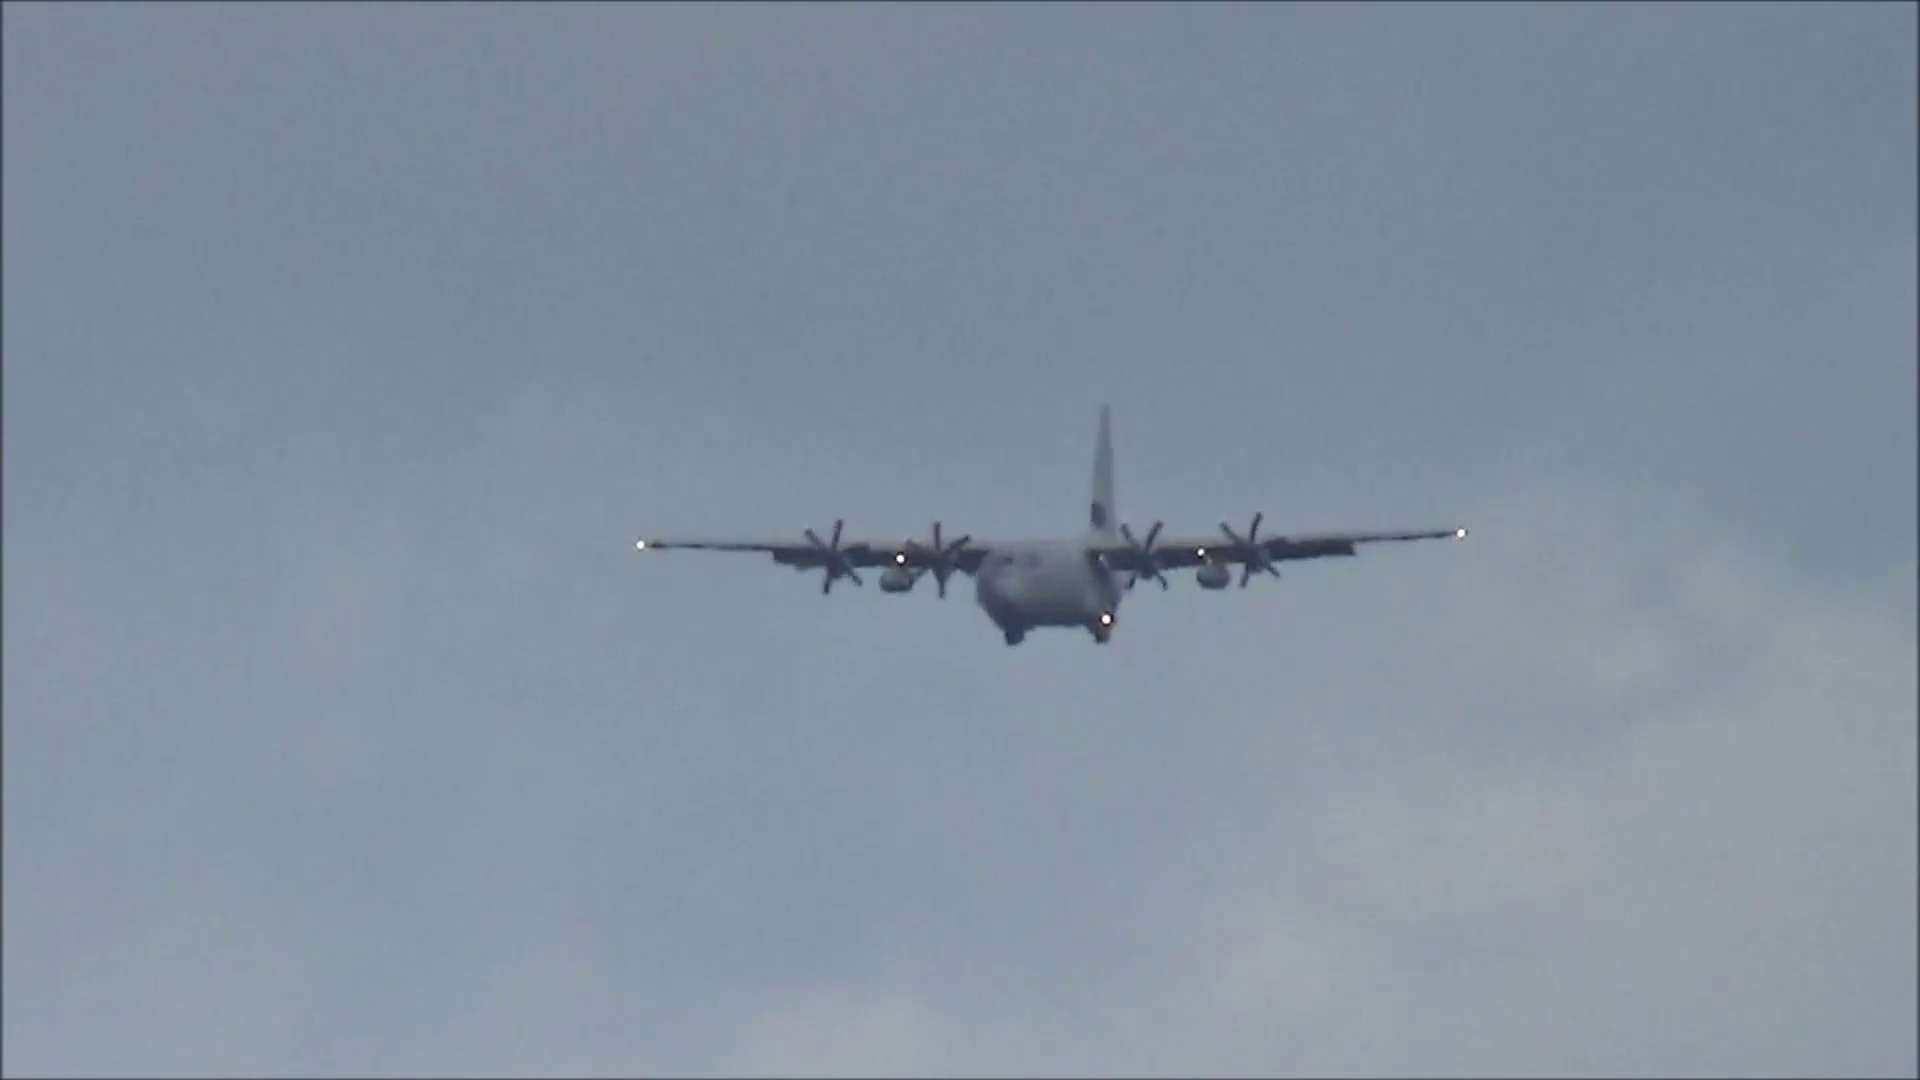Airplane: (636, 406, 1474, 647)
